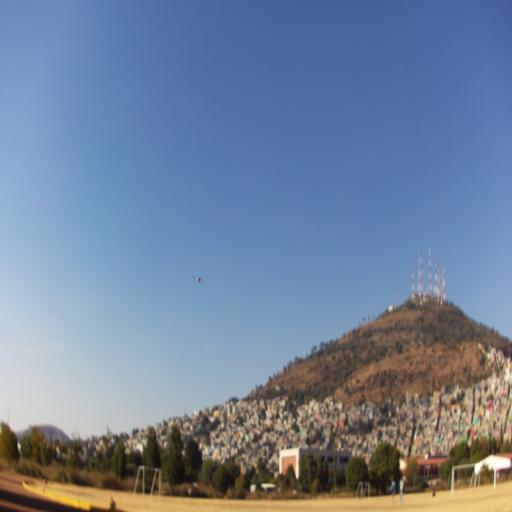drones: (193, 275, 204, 284)
